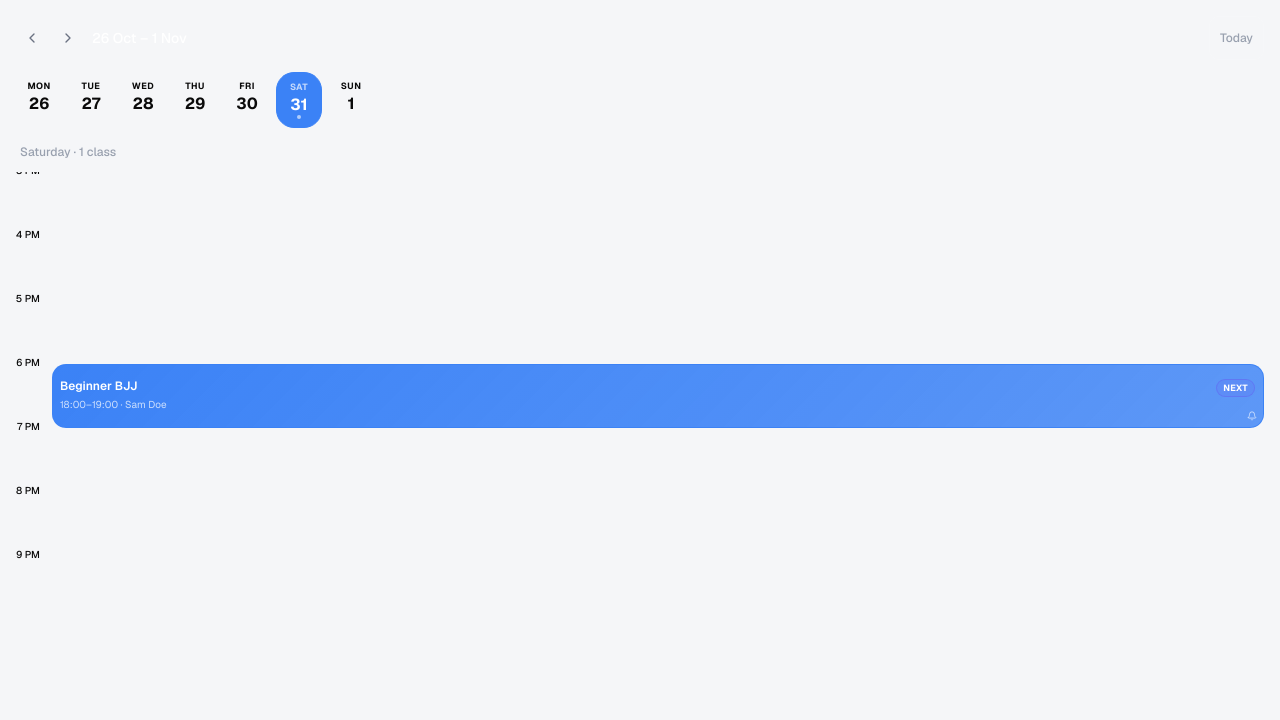
Scenario: member schedule — subscription keys off the Class id, not the grid-row id › renders a class as SUBSCRIBED when the server reports its real classId
Click the text "Beginner BJJ". click: click(99, 386)
box: [60,378,138,394]
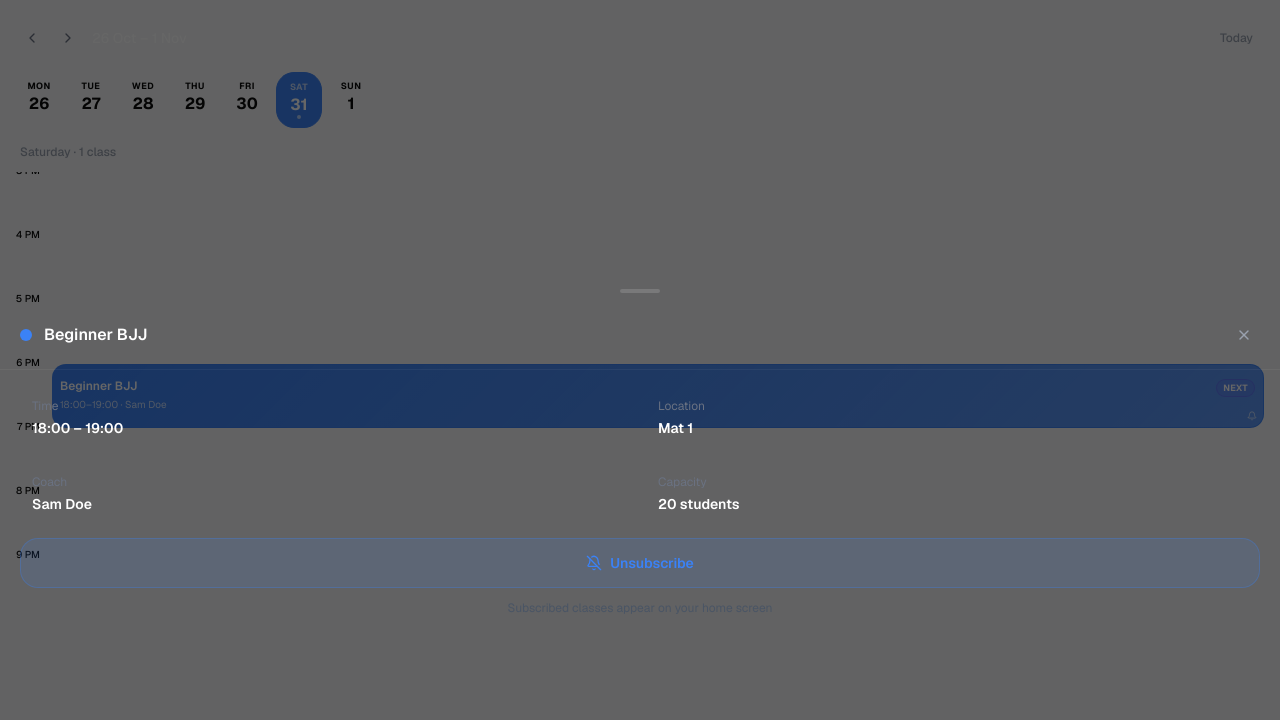
Result: the button "Unsubscribe" is shown at [20,538,1260,588]
